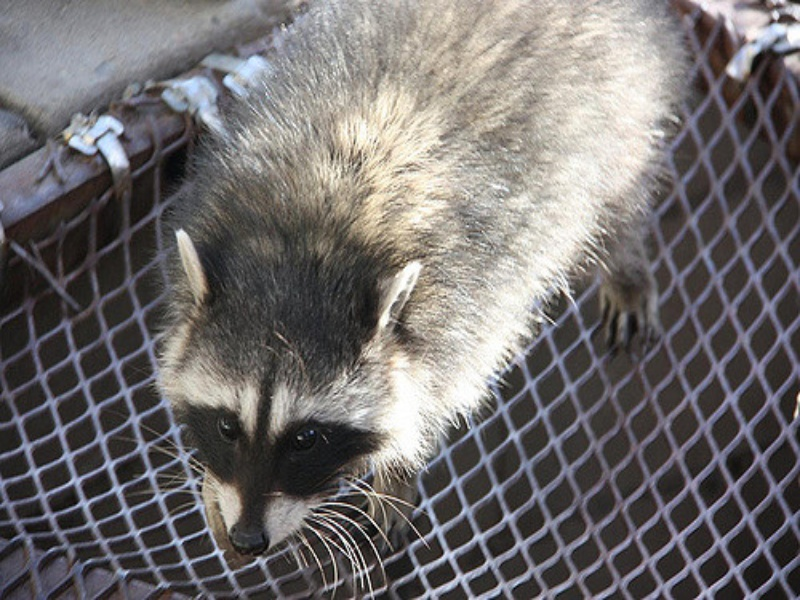raccoon: (157, 4, 685, 572)
